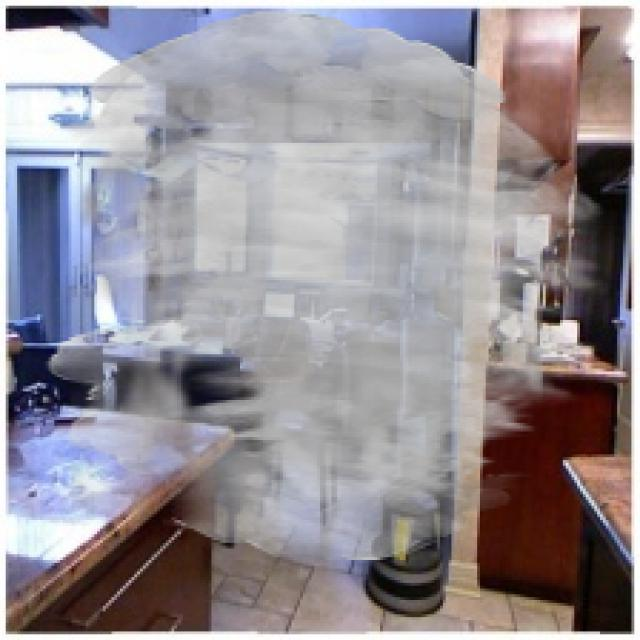Smoke: (46, 11, 608, 563)
